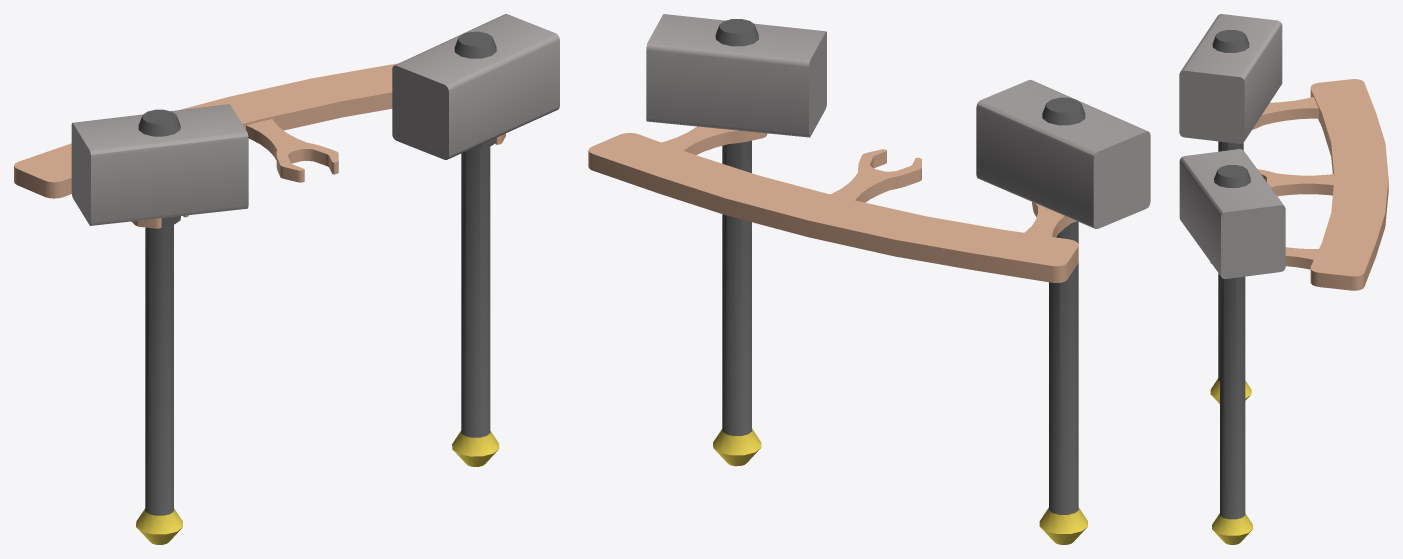
The model's file is toolholder2.fbx.
3 views of the same model, side by side, from view 1: azimuth 30°, elevation 25°; view 2: azimuth 150°, elevation 25°; view 3: azimuth 270°, elevation 25° (orthographic). The views are drawn at different scales.
Parts seen in each view (by area): view 1: Cube.007; view 2: Cube.007; view 3: Cube.007.
Boxes of the visible parts, <box> form: Cube.007: <box>14,14,559,544</box>; Cube.007: <box>588,14,1150,544</box>; Cube.007: <box>1179,14,1388,544</box>.
Size of the model in its own units: 64.53 by 55.5 by 28.44.
1 material, 1 textured.
